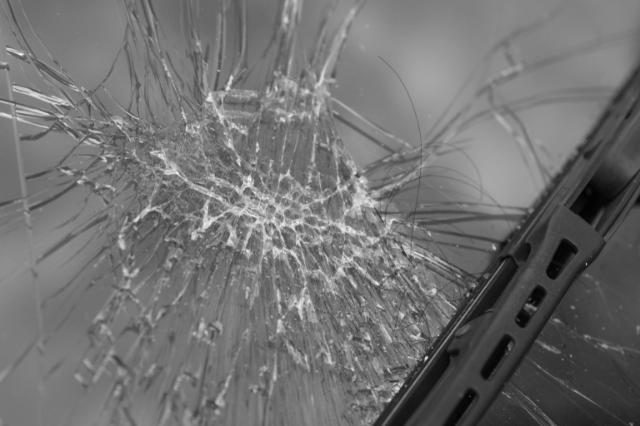Windshield: (0, 0, 601, 426)
